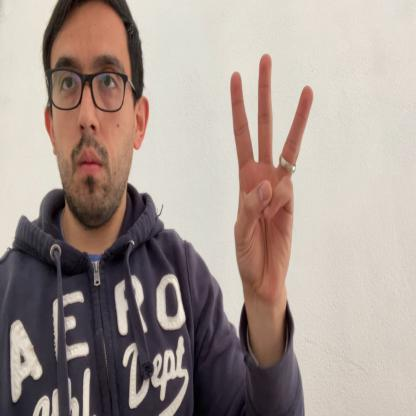W: (231, 52, 314, 305)
